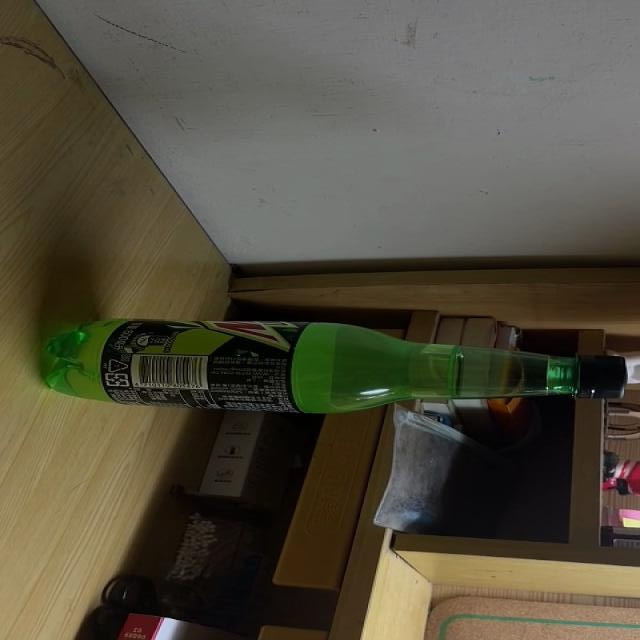Mountain-Dew: (35, 317, 626, 416)
